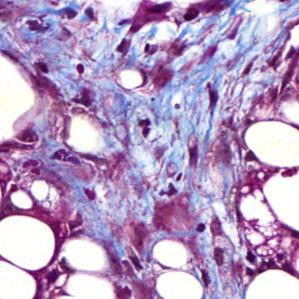steatosis: (150, 234, 189, 270)
